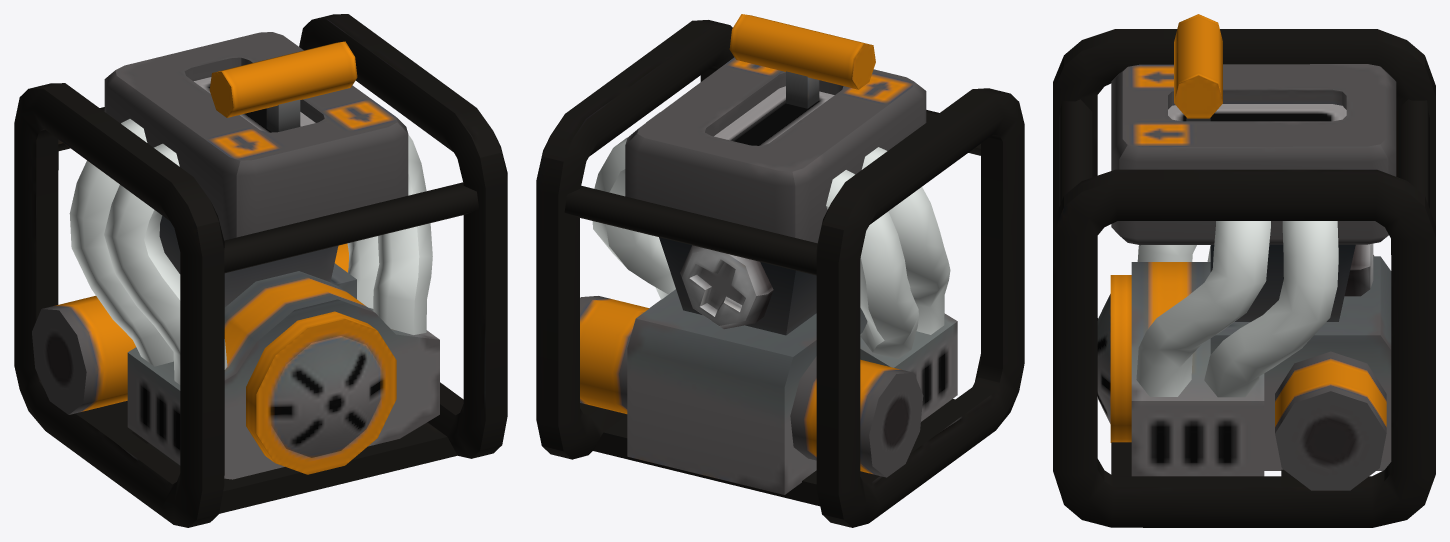
File: gas.glb
3 views of the same model, side by side, from view 1: azimuth 30°, elevation 25°; view 2: azimuth 150°, elevation 25°; view 3: azimuth 270°, elevation 25° (orthographic). The views are drawn at different scales.
Parts seen in each view (by area): view 1: gasengine; view 2: gasengine; view 3: gasengine.
Boxes of the visible parts, x1=… form: gasengine: x1=14, y1=14, x2=507, y2=527; gasengine: x1=536, y1=14, x2=1024, y2=527; gasengine: x1=1053, y1=14, x2=1435, y2=527.
Bounding box in the file's own units: 2.05 × 2.4 × 2.04.
2 materials, 1 textured.
